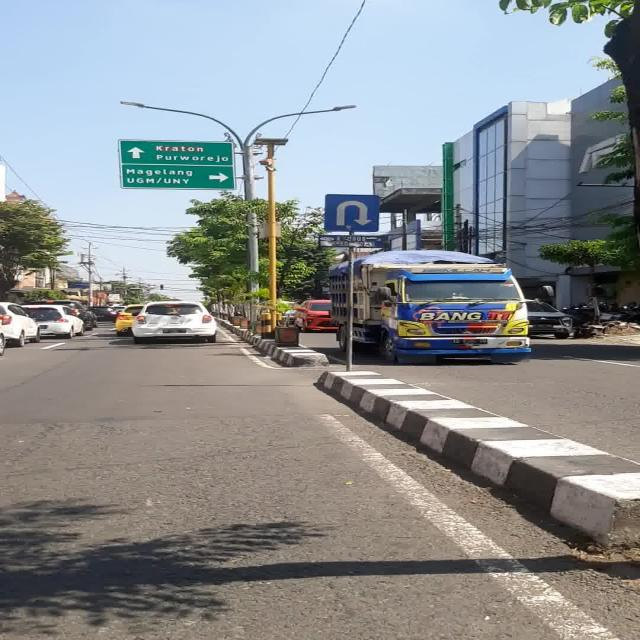Putar Balik: (325, 194, 380, 232)
